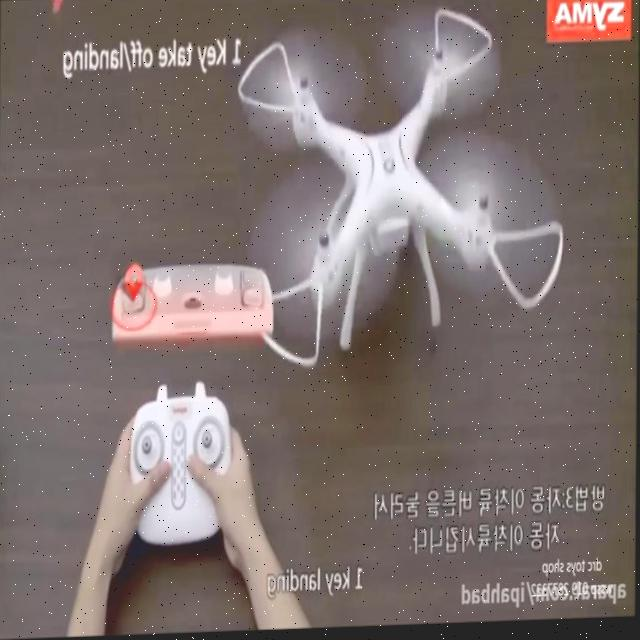drone: (238, 6, 568, 375)
